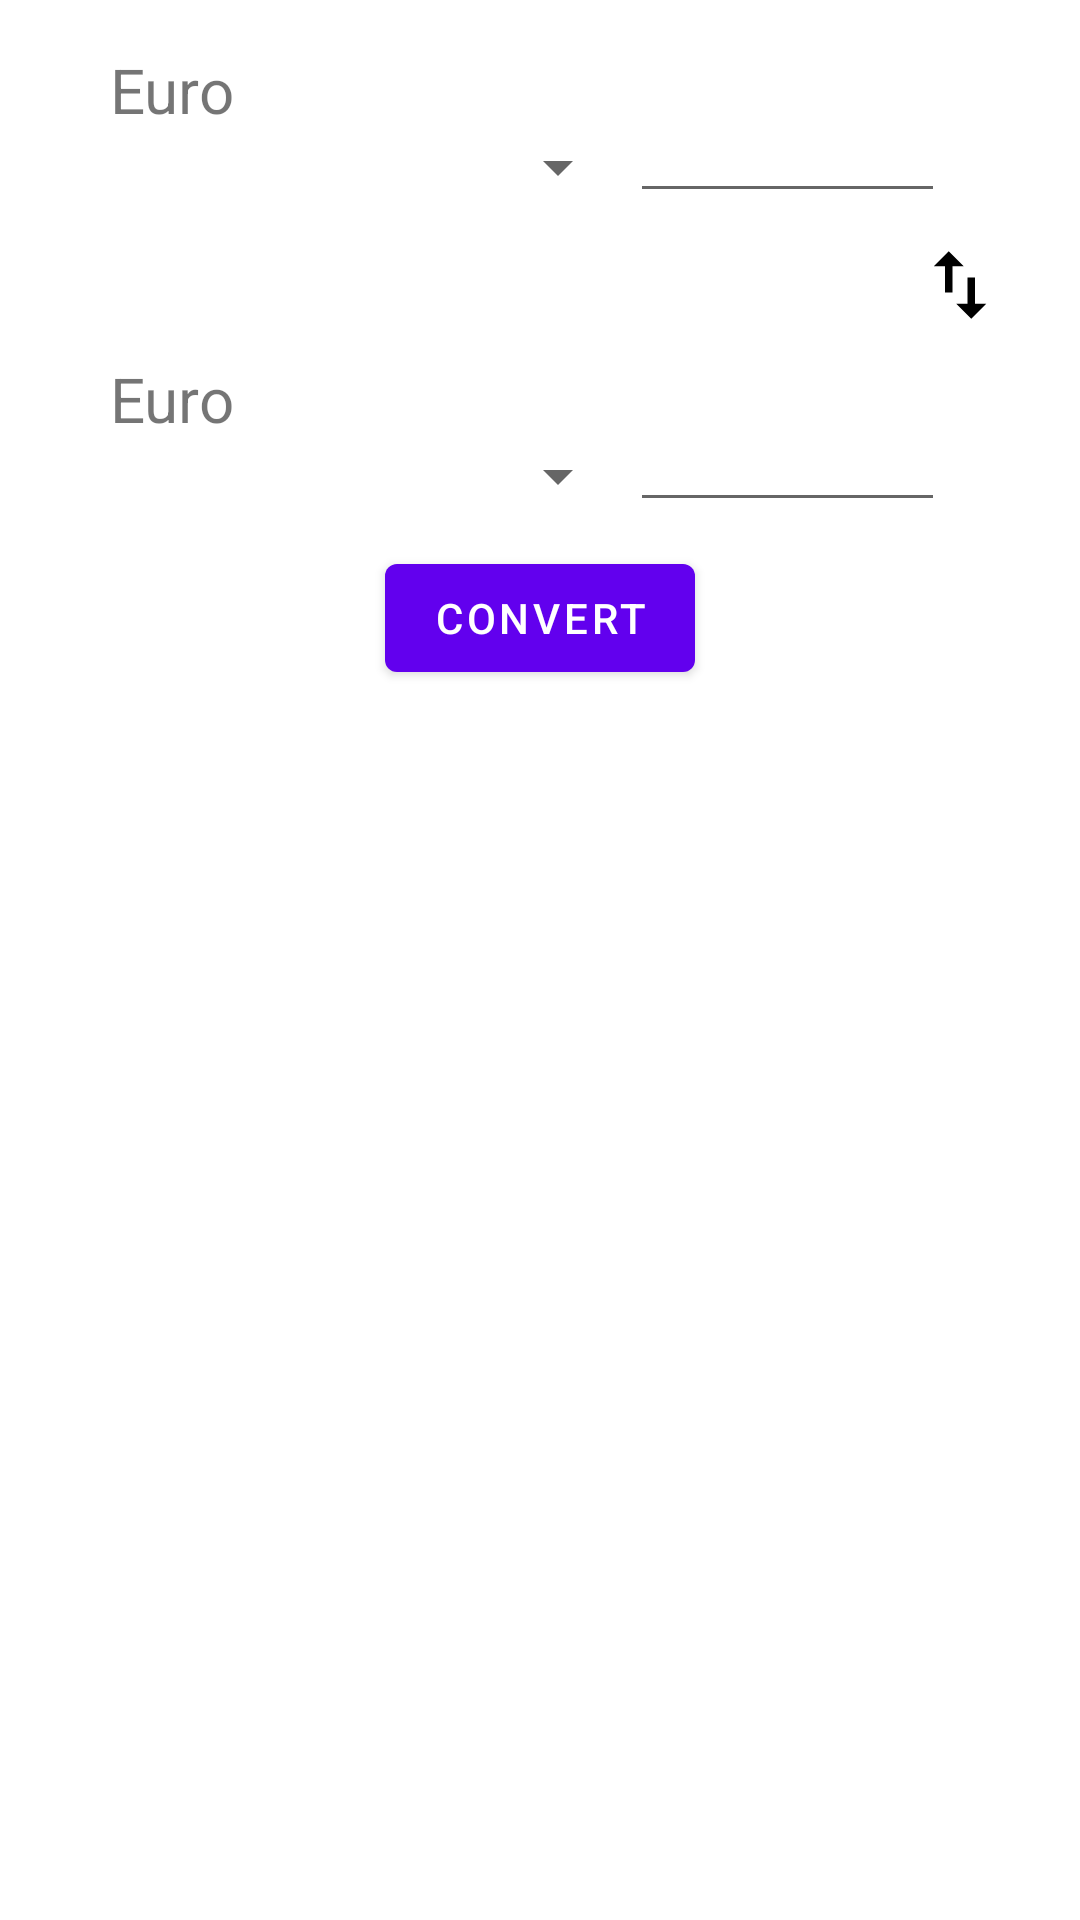

Where to tap for icons on this 1080px×1920px app screen, as (x,y):
swap: (960,285)
